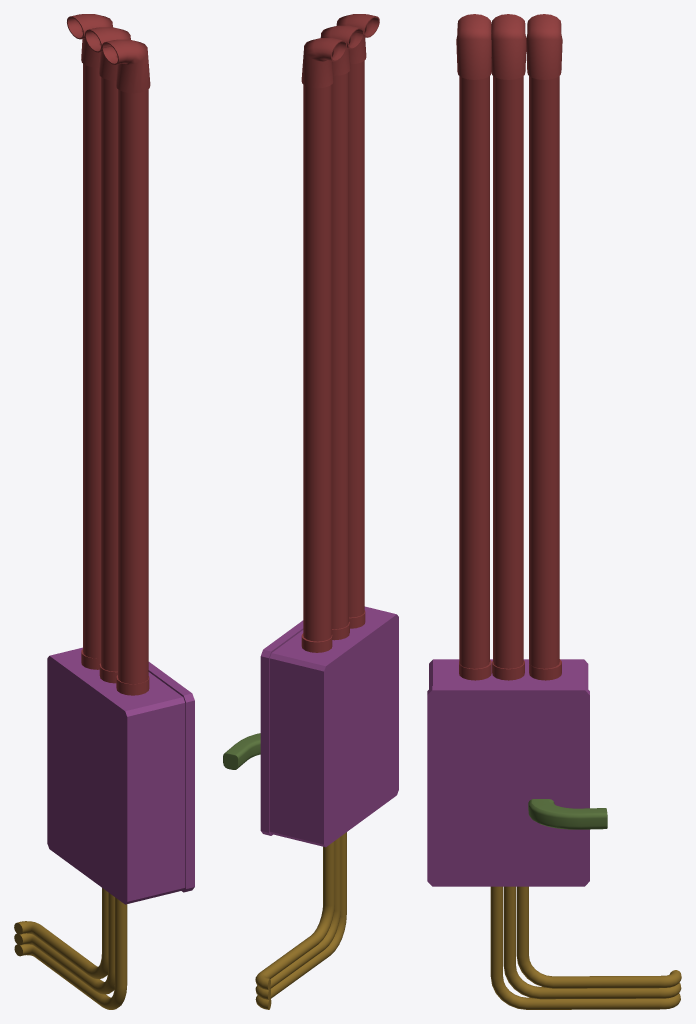
Rendered from Caja_de_Fusibles.fbx.
3 renders of one model, left to right at view 1: azimuth 30°, elevation 25°; view 2: azimuth 150°, elevation 25°; view 3: azimuth 270°, elevation 25°, orthographic. The views are drawn at different scales.
Visible parts, largest first — view 1: polySurface105; view 2: polySurface105; view 3: polySurface105.
Boxes of the visible parts, <box> form: polySurface105: <box>14,14,194,1009</box>; polySurface105: <box>223,14,398,1009</box>; polySurface105: <box>427,14,681,1009</box>.
Size of the model in its own units: 70.75 by 670 by 157.
